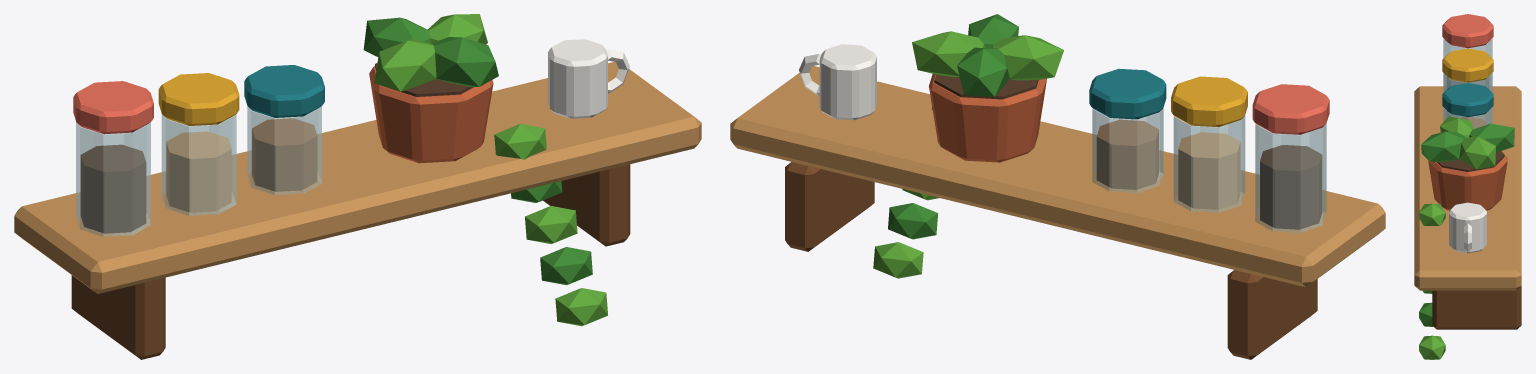
Rendered from wall_shelf.glb.
3 renders of one model, left to right at view 1: azimuth 30°, elevation 25°; view 2: azimuth 150°, elevation 25°; view 3: azimuth 270°, elevation 25°, orthographic. The views are drawn at different scales.
Parts seen in each view (by area): view 1: wall_shelf; view 2: wall_shelf; view 3: wall_shelf.
Part boxes in pixels (x1,y1,x2,y2): wall_shelf: [14, 14, 701, 359]; wall_shelf: [730, 14, 1385, 359]; wall_shelf: [1414, 14, 1521, 359].
Bounding box in the file's own units: 1 × 0.495 × 0.24.
